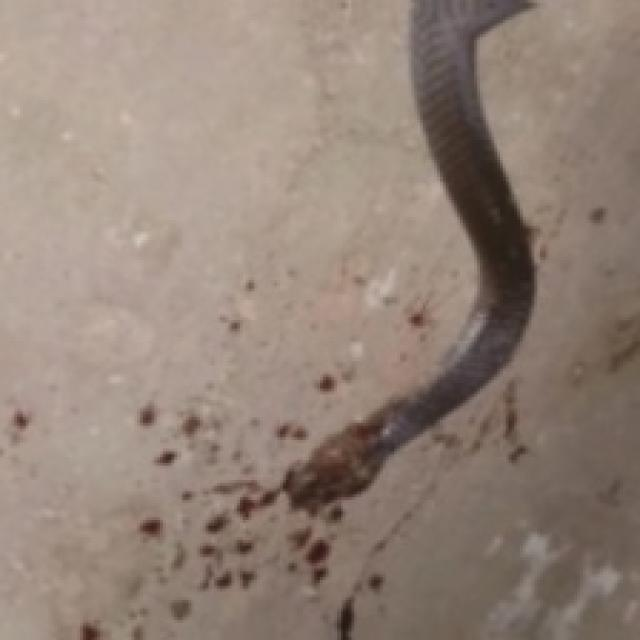king cobra: (283, 0, 531, 509)
